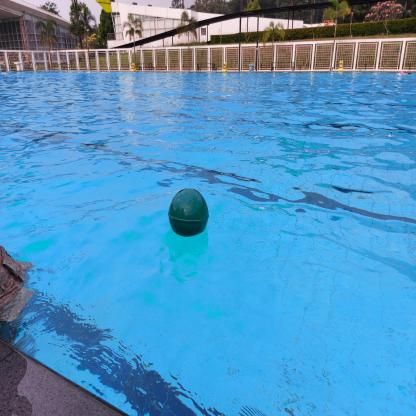green_buoy: (165, 186, 211, 238)
